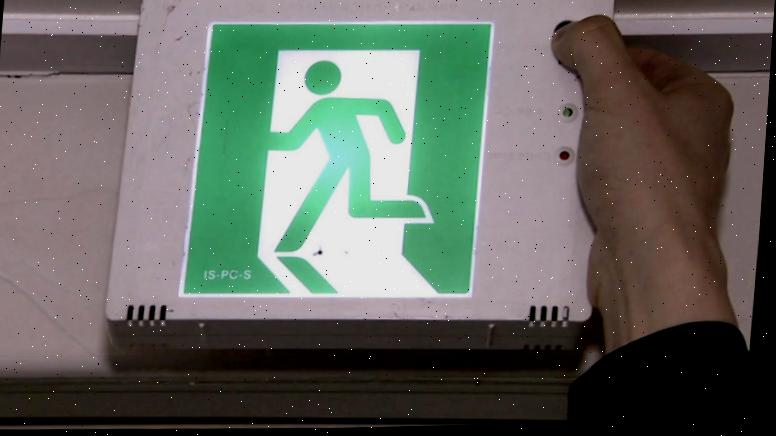emergency_exit: (104, 2, 609, 359), (178, 20, 495, 300)
